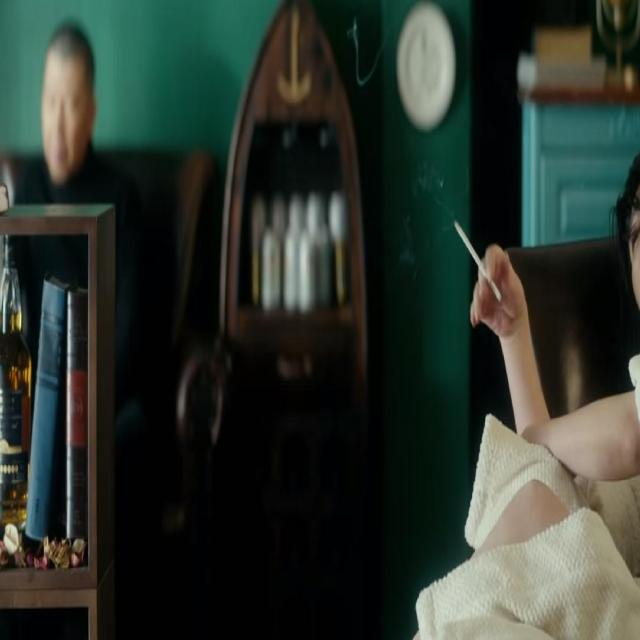smoke: (449, 211, 504, 309)
